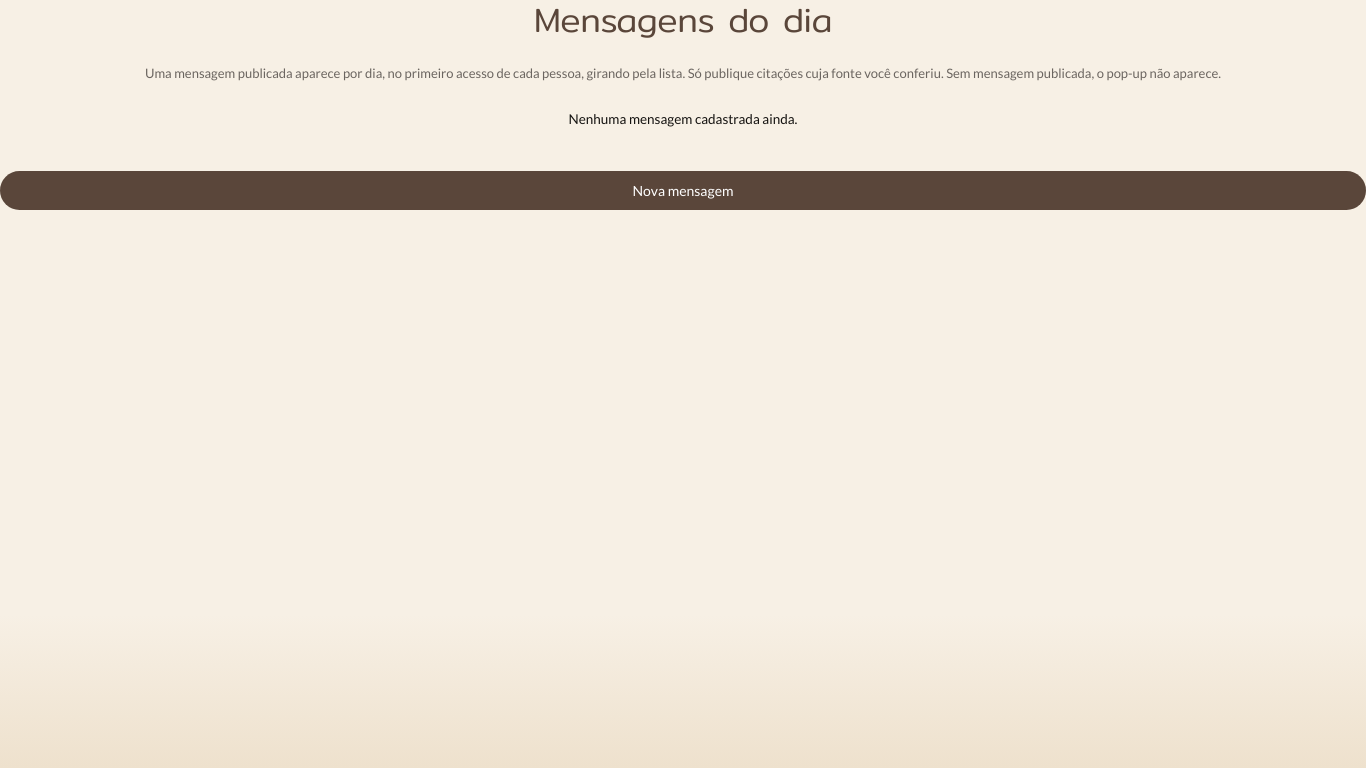
Test: InspirationManagerPage — mensagens do dia › texto editorial não pede autor nem obra
Later steps or results of the test are not shown.
Click the button "Nova mensagem". click: (683, 190)
box: [0, 170, 1365, 210]
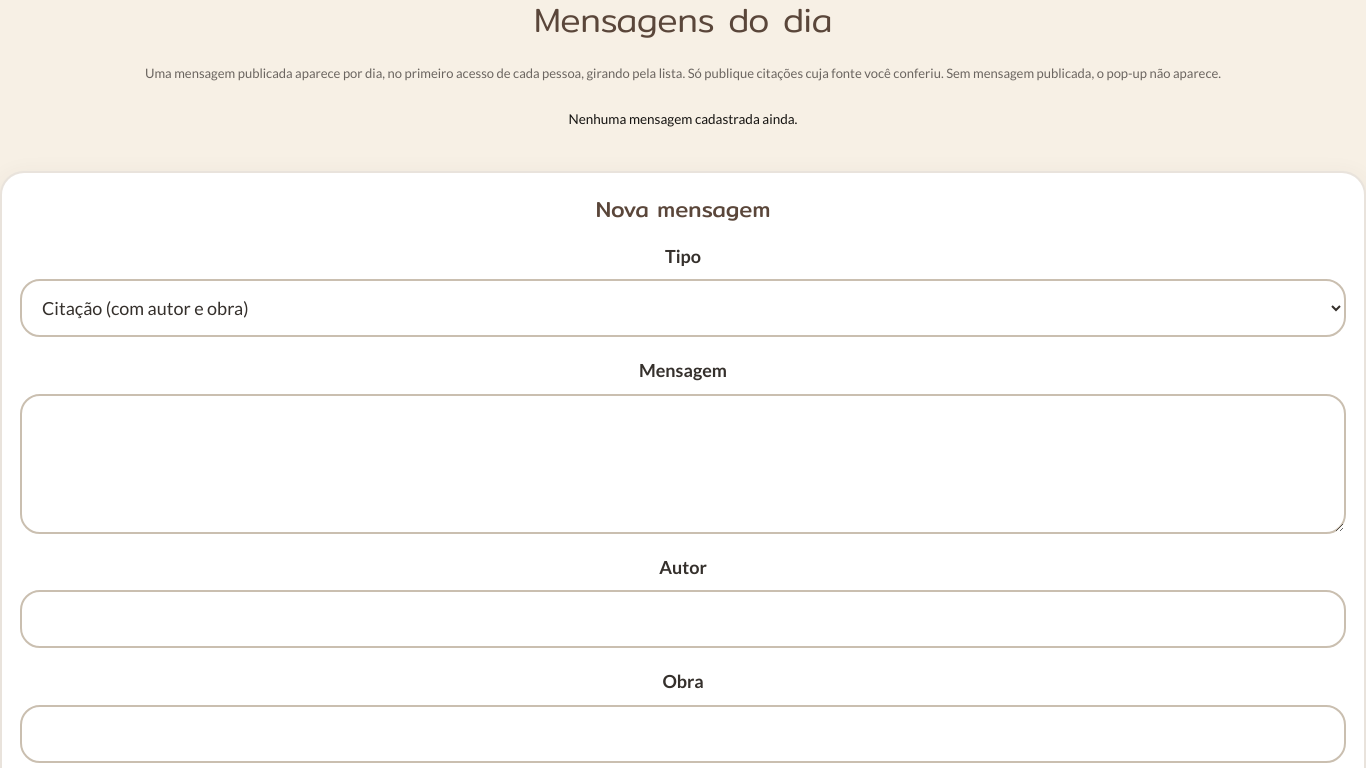
Select "Texto editorial do Círcula" in the dropdown labelled "Tipo". click: (683, 308)
box: [20, 279, 1346, 337]
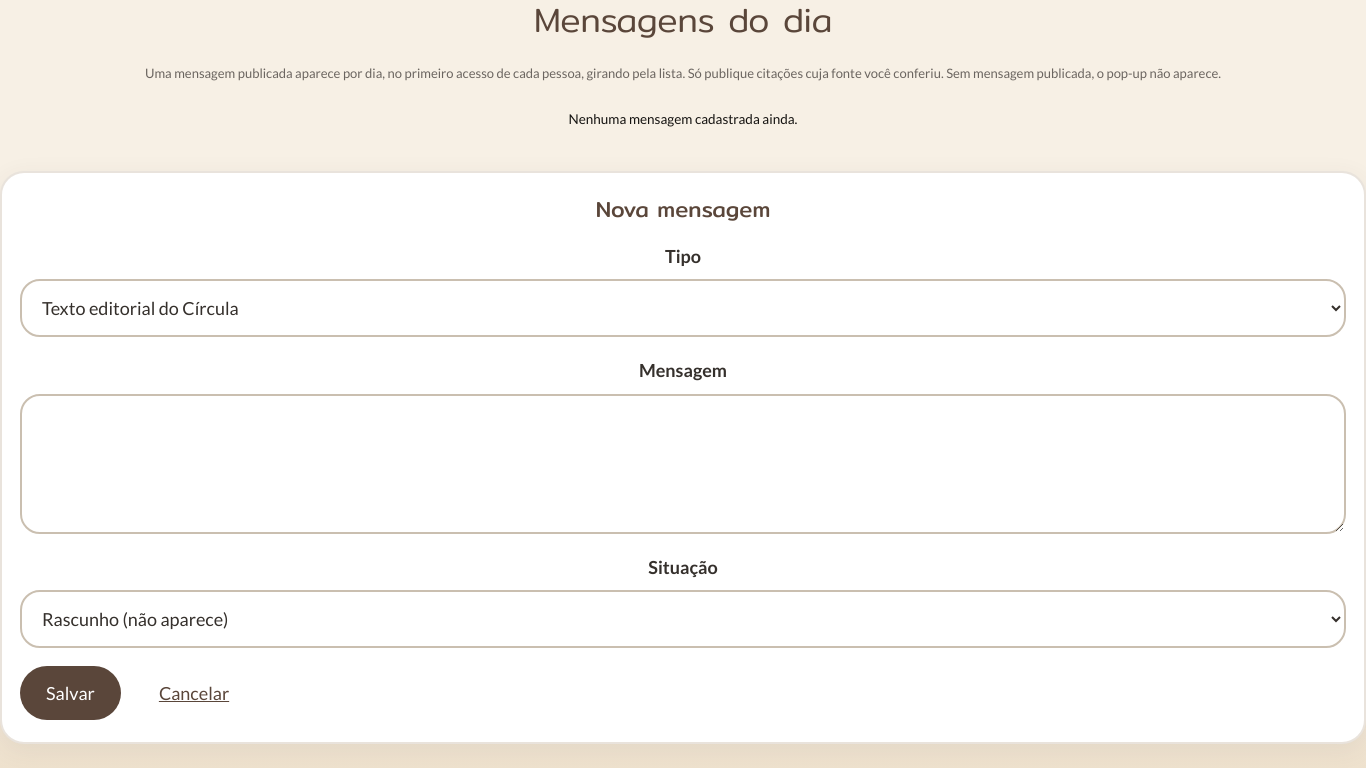
Expected: the label labelled "Autor" is gone
